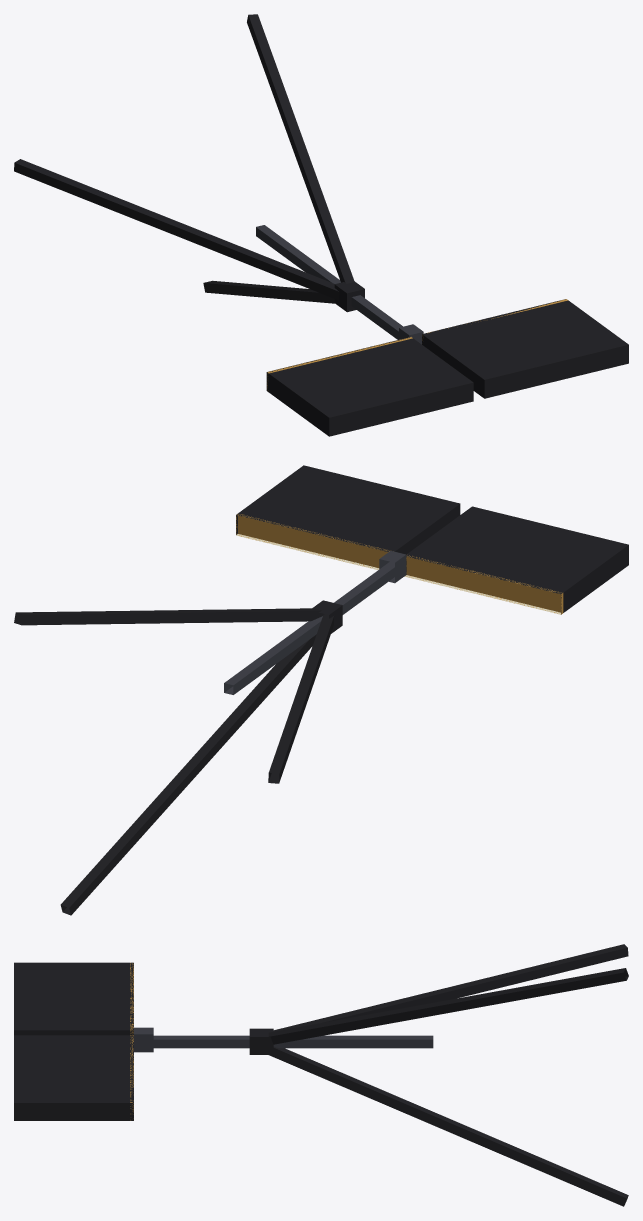
File: b_flood_light_pro.obj
3 views of the same model, one above another, from view 1: azimuth 30°, elevation 25°; view 2: azimuth 150°, elevation 25°; view 3: azimuth 270°, elevation 25° (orthographic). The views are drawn at different scales.
Size of the model in its own units: 0.83 by 0.7064 by 1.54.
Materials: 1 (1 with a texture image).
